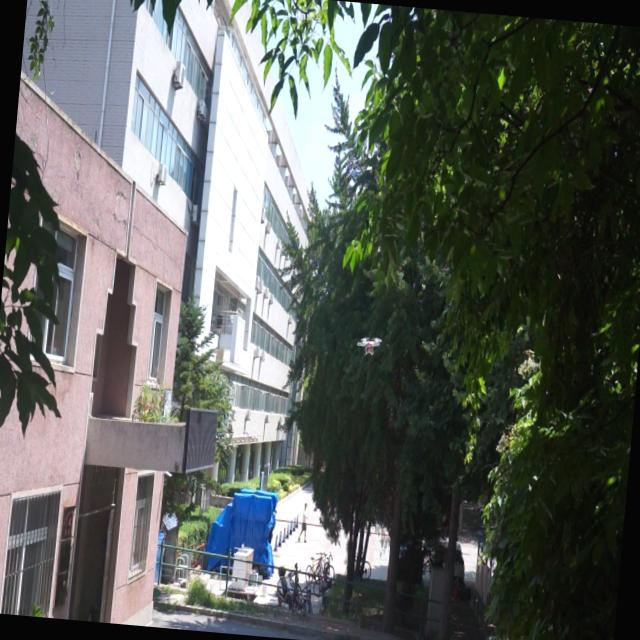drone: (354, 328, 384, 359)
